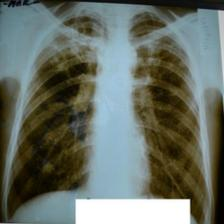tuberculosis: (1, 7, 214, 224)
